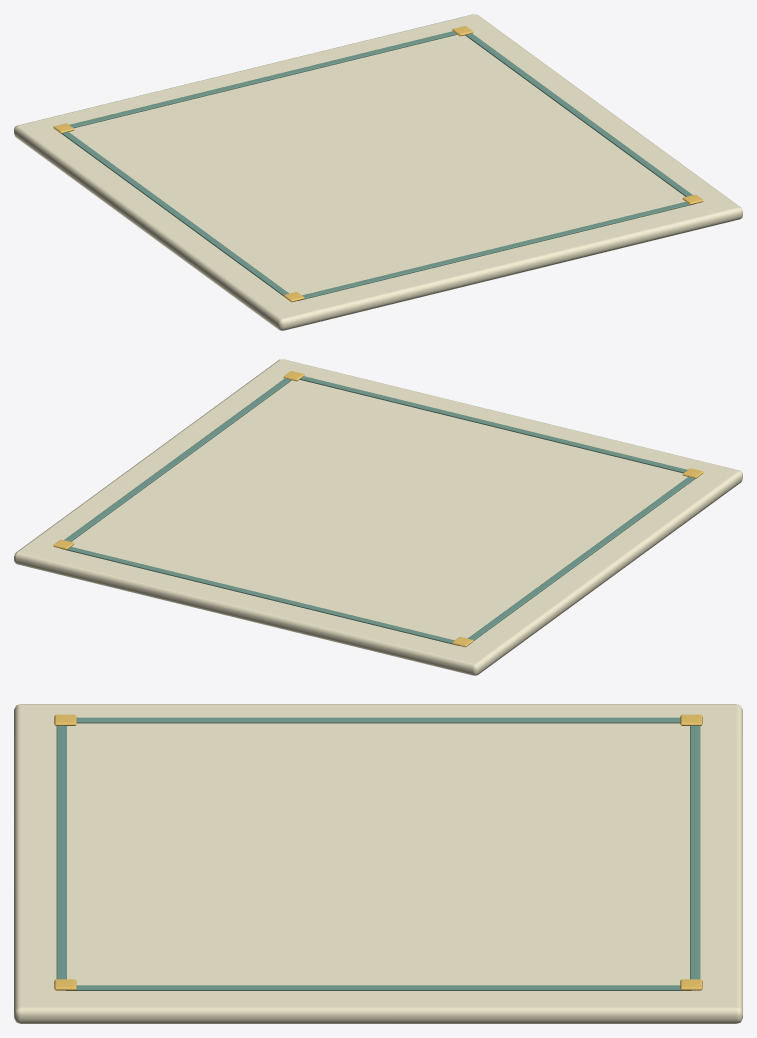
The model's file is courtyard_tile.glb.
The picture shows the model from 3 angles, top to bottom: view 1: azimuth 30°, elevation 25°; view 2: azimuth 150°, elevation 25°; view 3: azimuth 270°, elevation 25°; orthographic projection. The views are drawn at different scales.
Parts seen in each view (by area): view 1: TileTop, Inlay.001, Inlay.003, Inlay, Inlay.002; view 2: TileTop, Inlay.003, Inlay.001, Inlay, Inlay.002; view 3: TileTop, Inlay, Inlay.002, Inlay.001, Inlay.003.
Boxes of the visible parts, box(x1,y1,x2,y2) form: TileTop: box(14, 14, 742, 330); Inlay.001: box(298, 202, 695, 300); Inlay.003: box(69, 31, 456, 128); Inlay: box(61, 132, 288, 296); Inlay.002: box(465, 33, 692, 196); TileTop: box(14, 359, 742, 675); Inlay.003: box(61, 547, 458, 645); Inlay.001: box(300, 376, 687, 473); Inlay: box(468, 477, 695, 641); Inlay.002: box(64, 378, 291, 541); TileTop: box(14, 704, 742, 1023); Inlay: box(76, 717, 680, 723); Inlay.002: box(66, 985, 690, 990); Inlay.001: box(56, 725, 66, 979); Inlay.003: box(690, 725, 700, 979).
Size of the model in its own units: 3.96 by 0.128 by 3.96.
